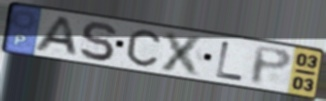A: (30, 15, 80, 58)
C: (125, 28, 163, 69)
L: (213, 40, 246, 83)
P: (249, 44, 295, 87)
S: (78, 20, 118, 62)
X: (157, 30, 207, 79)
